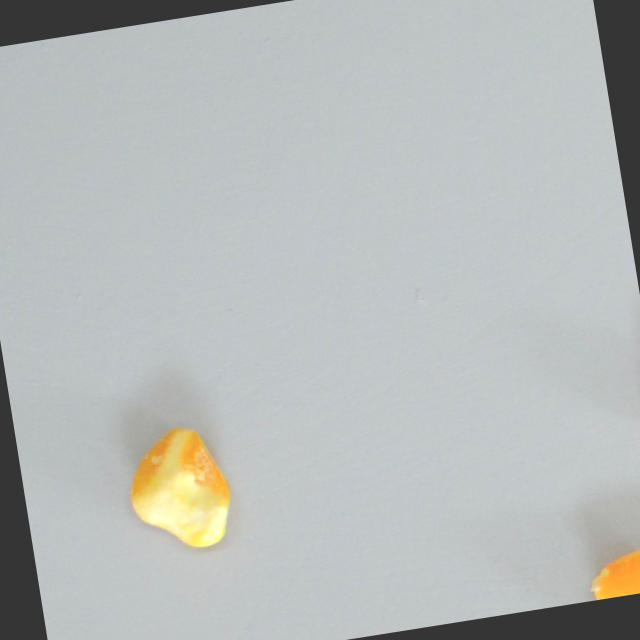estandar: (585, 545, 640, 601)
pelicula: (117, 421, 240, 559)
